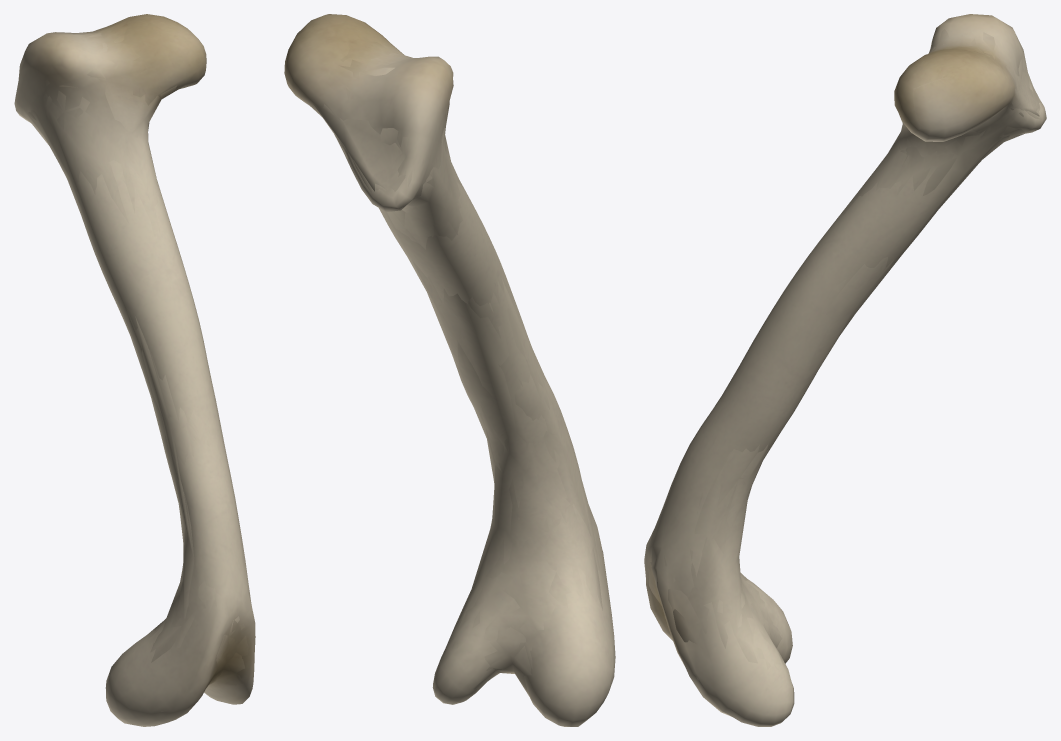
The model's file is R Femur.fbx.
3 views of the same model, side by side, from view 1: azimuth 30°, elevation 25°; view 2: azimuth 150°, elevation 25°; view 3: azimuth 270°, elevation 25° (orthographic). The views are drawn at different scales.
Parts seen in each view (by area): view 1: R Femur high, R Femur low, R Femur; view 2: R Femur high, R Femur low, R Femur; view 3: R Femur high, R Femur low, R Femur.
Boxes of the visible parts, <box> form: R Femur high: <box>14,14,255,726</box>; R Femur low: <box>26,27,244,711</box>; R Femur: <box>26,23,250,689</box>; R Femur high: <box>284,14,615,726</box>; R Femur low: <box>312,41,602,696</box>; R Femur: <box>312,37,600,690</box>; R Femur high: <box>644,14,1046,726</box>; R Femur low: <box>650,32,1039,667</box>; R Femur: <box>648,29,1040,679</box>.
Bounding box in the file's own units: 8.33 × 28.42 × 15.34.
